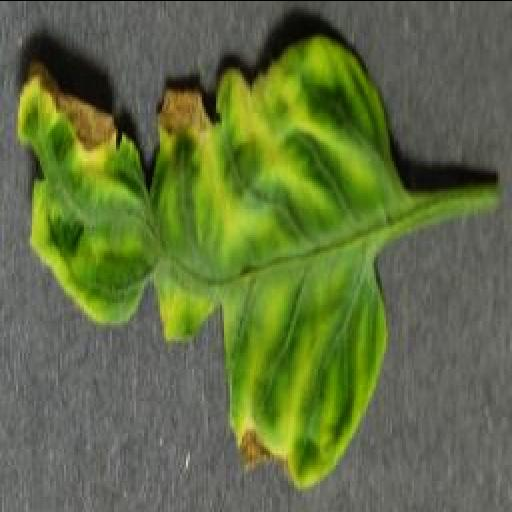disease_tomato: (14, 30, 390, 490)
